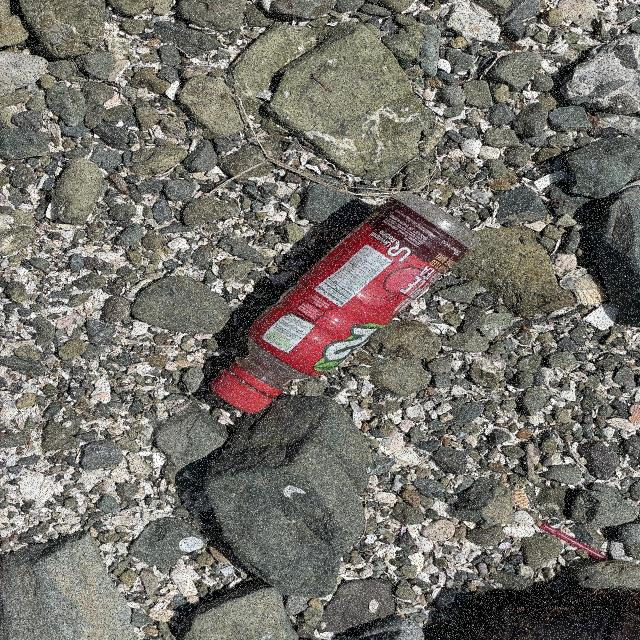plastic_waste: (215, 192, 482, 416), (539, 522, 610, 562)
